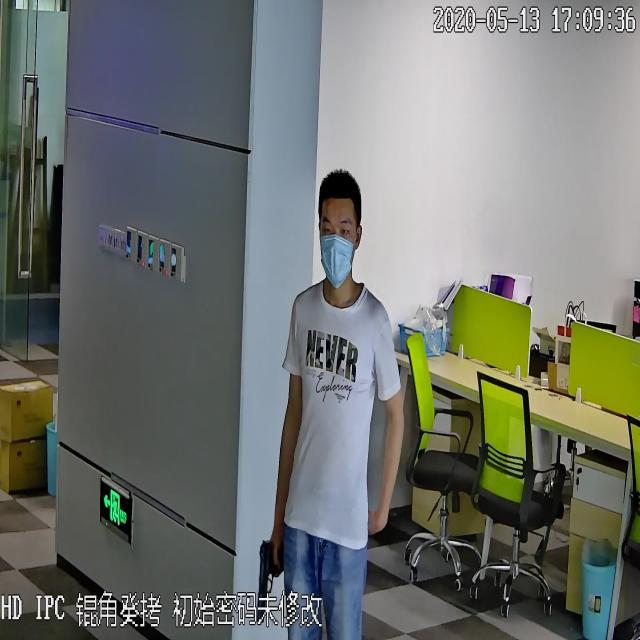gun: (253, 537, 283, 633)
